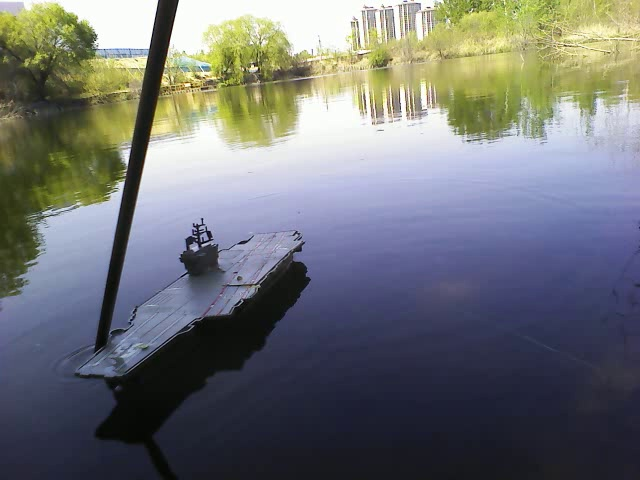aircraft_carrier: (72, 222, 307, 387)
